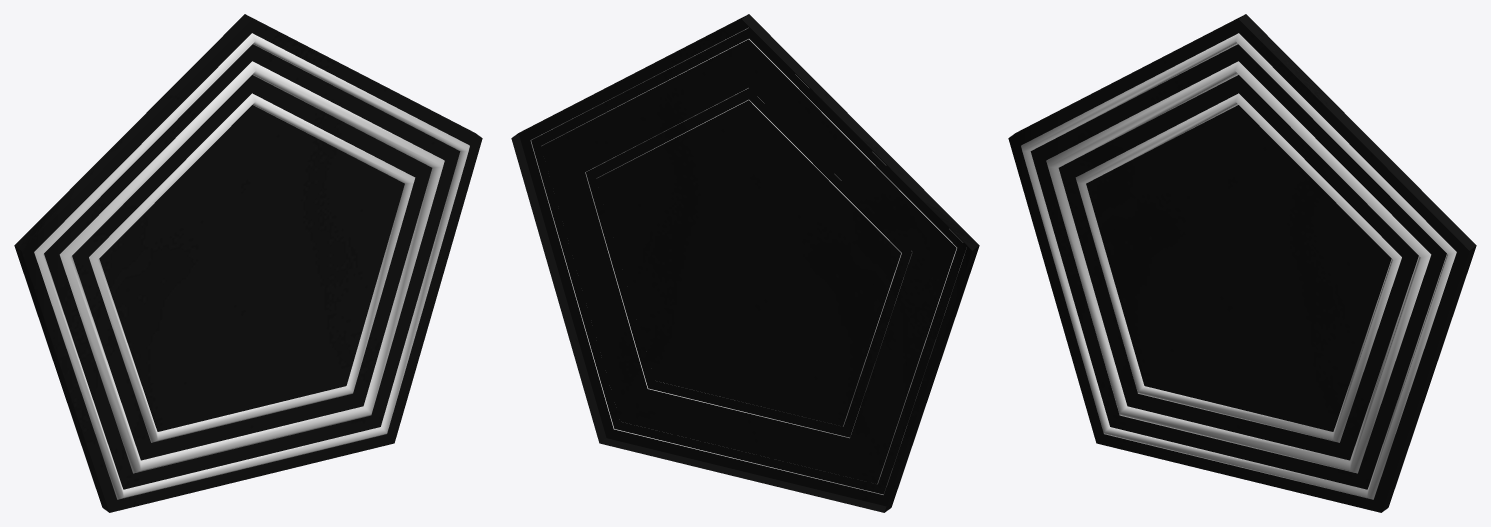
The model's file is Mesh_NeonPentagon.fbx.
The picture shows the model from 3 angles, left to right: view 1: azimuth 30°, elevation 25°; view 2: azimuth 150°, elevation 25°; view 3: azimuth 330°, elevation 25°; orthographic projection.
Parts seen in each view (by area): view 1: NeonPentagon; view 2: NeonPentagon; view 3: NeonPentagon.
Boxes of the visible parts, box(x1,y1,x2,y2) form: NeonPentagon: box(14, 14, 482, 512); NeonPentagon: box(511, 14, 979, 512); NeonPentagon: box(1008, 14, 1476, 512).
Bounding box in the file's own units: 1.05 × 0.997 × 0.0447.
